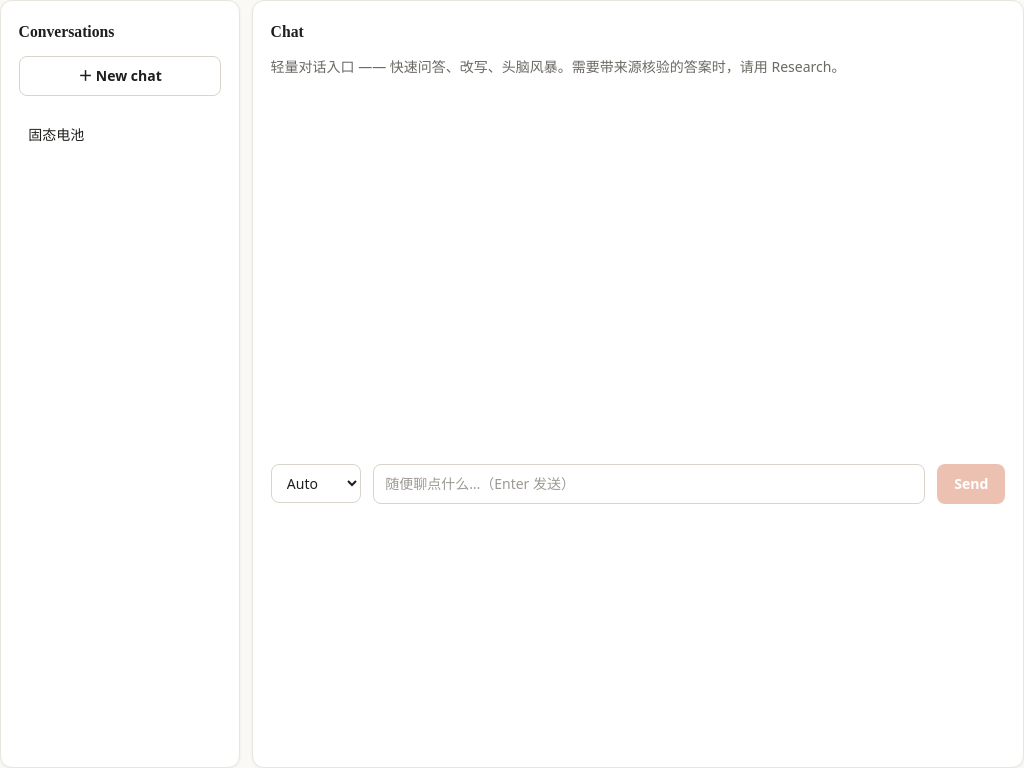
Chat page (S28) › opens an existing conversation and hides the system message
Click the button "固态电池" at (120, 135), box [19, 116, 221, 154]
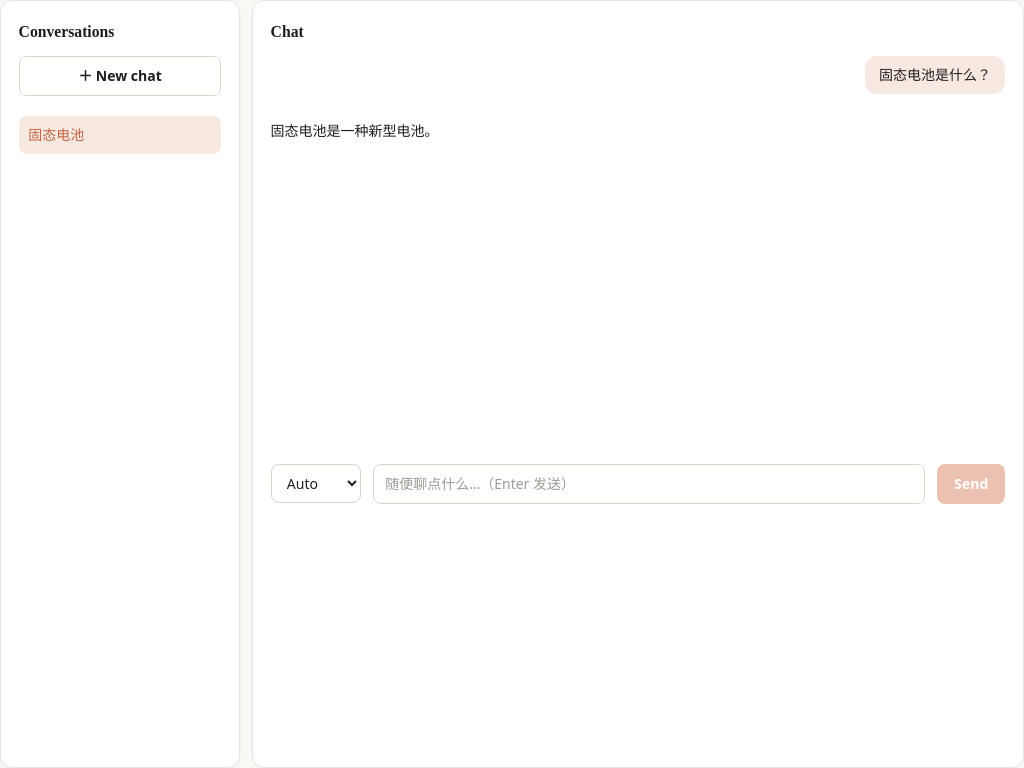
Now the text "固态电池是什么？" is shown, box [865, 56, 1005, 94]
